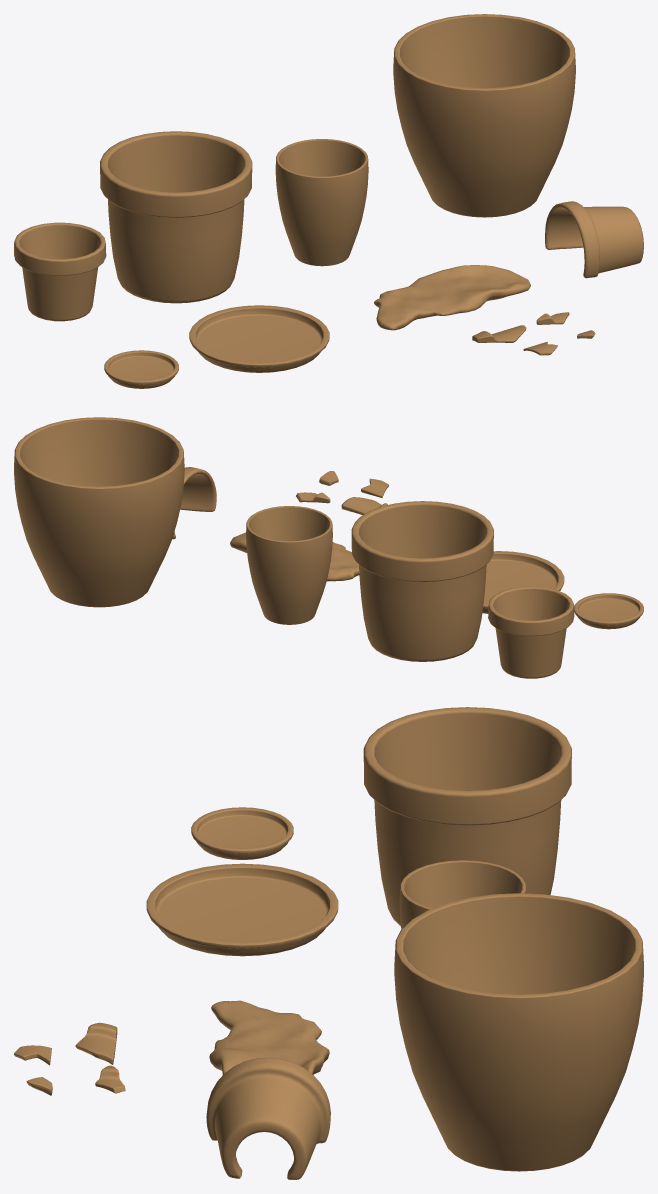
File: pots.fbx
The picture shows the model from 3 angles, top to bottom: view 1: azimuth 30°, elevation 25°; view 2: azimuth 150°, elevation 25°; view 3: azimuth 270°, elevation 25°; orthographic projection. The views are drawn at different scales.
Parts seen in each view (by area): view 1: pot_large_v2, pot_large_v1, pot_small_v2, pot_tray_large, pot_small_v1, dirt_L, pot_broken, pot_tray_small, pot_shard01; view 2: pot_large_v2, pot_large_v1, pot_small_v2, pot_small_v1, pot_tray_large, pot_tray_small, pot_broken, dirt_L, pot_shard01; view 3: pot_large_v2, pot_large_v1, pot_tray_large, pot_broken, dirt_L, pot_small_v2, pot_tray_small, pot_shard01.
Part boxes in pixels (x1,y1,x2,y2): pot_large_v2: [393, 14, 575, 217]; pot_large_v1: [100, 131, 252, 303]; pot_small_v2: [275, 139, 368, 266]; pot_tray_large: [189, 305, 329, 372]; pot_small_v1: [14, 222, 106, 321]; dirt_L: [374, 265, 530, 330]; pot_broken: [545, 201, 643, 278]; pot_tray_small: [104, 350, 178, 388]; pot_shard01: [472, 325, 526, 342]; pot_large_v2: [14, 417, 184, 607]; pot_large_v1: [351, 501, 493, 661]; pot_small_v2: [246, 506, 332, 624]; pot_small_v1: [488, 586, 574, 678]; pot_tray_large: [482, 551, 564, 613]; pot_tray_small: [574, 593, 643, 629]; pot_broken: [172, 467, 216, 539]; dirt_L: [230, 532, 359, 581]; pot_shard01: [341, 497, 387, 515]; pot_large_v2: [394, 893, 643, 1171]; pot_large_v1: [363, 707, 571, 926]; pot_tray_large: [146, 863, 338, 956]; pot_broken: [206, 1057, 330, 1179]; dirt_L: [209, 1000, 329, 1074]; pot_small_v2: [399, 860, 526, 928]; pot_tray_small: [191, 807, 293, 859]; pot_shard01: [75, 1022, 117, 1064].
Bounding box in the file's own units: 198 × 51.33 × 141.
